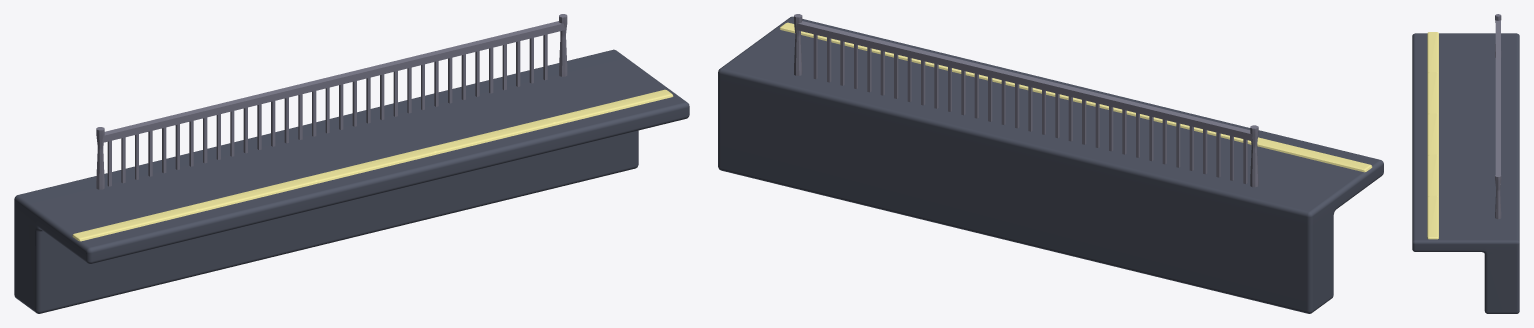
The model's file is StationUnder.fbx.
3 views of the same model, side by side, from view 1: azimuth 30°, elevation 25°; view 2: azimuth 150°, elevation 25°; view 3: azimuth 270°, elevation 25° (orthographic). The views are drawn at different scales.
Parts seen in each view (by area): view 1: polySurface11, polySurface19, polySurface4, polySurface16; view 2: polySurface11, polySurface4, polySurface19, polySurface16; view 3: polySurface11, polySurface19, polySurface4, polySurface17.
Boxes of the visible parts, x1,y1,x2,y2 form: polySurface11: (14,49,689,313); polySurface19: (72,89,673,241); polySurface4: (102,21,565,142); polySurface16: (96,127,104,189); polySurface11: (718,16,1383,313); polySurface4: (796,21,1252,140); polySurface19: (780,22,1372,172); polySurface16: (1250,125,1258,187); polySurface11: (1412,33,1519,313); polySurface19: (1427,32,1438,239); polySurface4: (1495,20,1500,184); polySurface17: (1495,174,1501,219).
Size of the model in its own units: 37.13 by 9.59 by 8.07.
